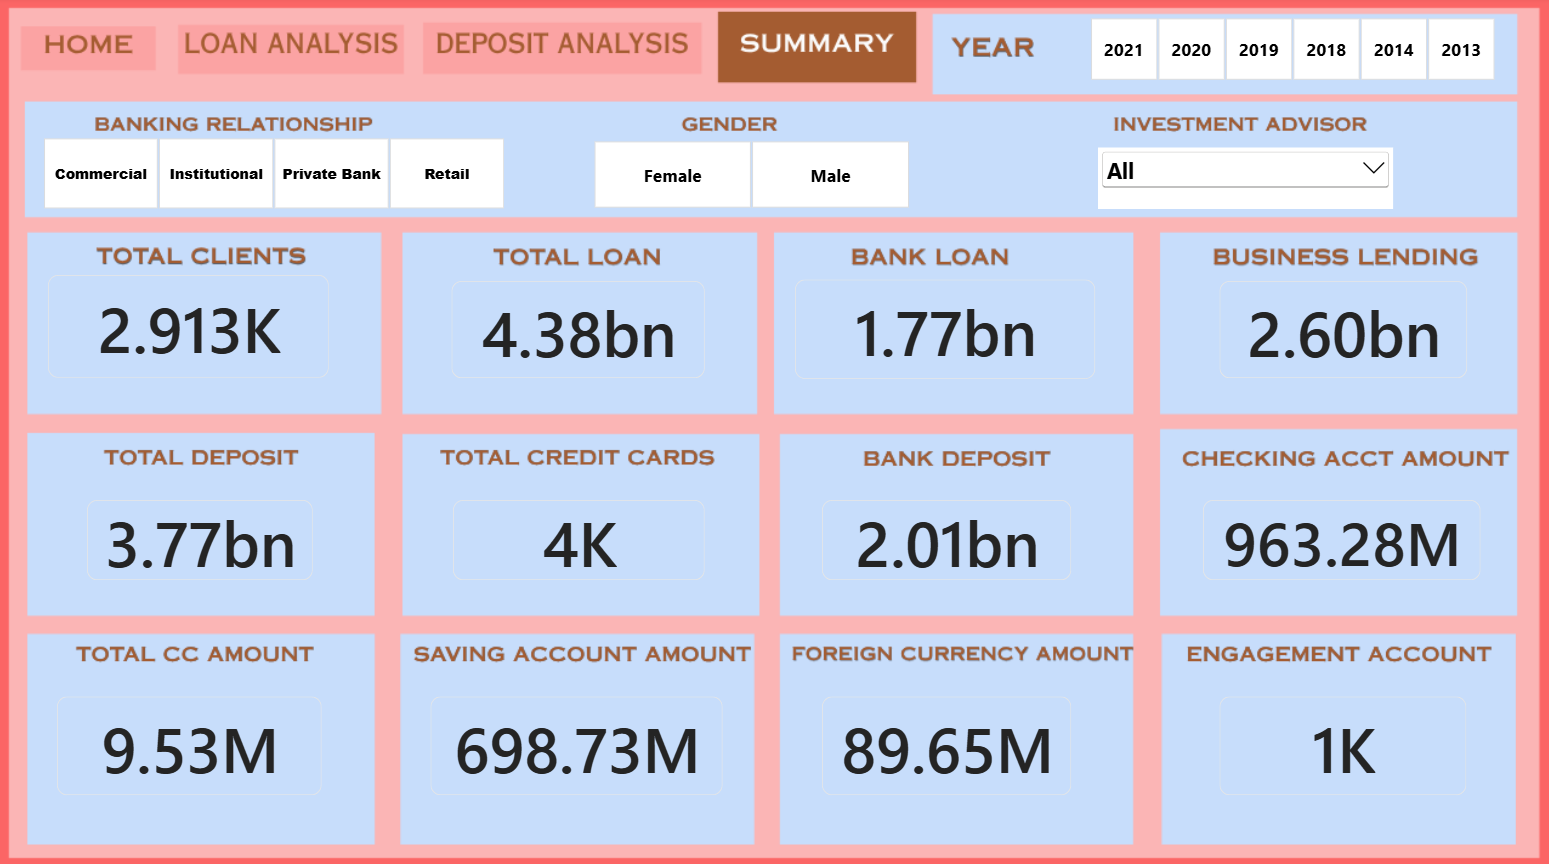

The dashboard page shown, as its layout file describes it:
{"tool":"powerbi","page":{"name":"SUMMARY","canvas":[1920,1080],"ordinal":3},"visuals":[{"type":"actionButton","box":[20.4,36.3,179.4,59.1],"z":0},{"type":"actionButton","box":[220.3,36.3,279.4,59.1],"z":1000},{"type":"actionButton","box":[529.2,36.3,345.2,59.1],"z":2000},{"type":"cardVisual","fields":{"Data":["Count(banking customer.Name)"]},"box":[63.6,345.2,347.5,127.2],"z":3000},{"type":"cardVisual","fields":{"Data":["banking customer.Total Loan"]},"box":[561,352.1,313.4,120.4],"z":4000},{"type":"cardVisual","fields":{"Data":["Sum(banking customer.Bank Loans)"]},"box":[985.3,350.5,371.8,123.2],"z":5000},{"type":"cardVisual","fields":{"Data":["Sum(banking customer.Business Lending)"]},"box":[1510.4,352.1,306.6,120.4],"z":6000},{"type":"cardVisual","fields":{"Data":["banking customer.Total deposits"]},"box":[111.3,622.3,279.4,99.9],"z":7000},{"type":"cardVisual","fields":{"Data":["Sum(banking customer.Credit Card Balance)"]},"box":[75,865.4,327.1,122.7],"z":8000},{"type":"cardVisual","fields":{"Data":["Sum(banking customer.Bank Deposits)"]},"box":[1019.8,622.3,308.9,99.9],"z":9000},{"type":"cardVisual","fields":{"Data":["Sum(banking customer.Checking Accounts)"]},"box":[1489.8,622.9,343.4,99.5],"z":10000},{"type":"cardVisual","fields":{"Data":["Sum(banking customer.Saving Accounts)"]},"box":[536,865.4,361.1,122.7],"z":11000},{"type":"cardVisual","fields":{"Data":["Sum(banking customer.Foreign Currency Account)"]},"box":[1019.8,865.4,308.9,122.7],"z":12000},{"type":"slicer","fields":{"Values":["banking customer.GenderId"]},"box":[717,177.5,428.3,85.2],"z":13000},{"type":"slicer","fields":{"Values":["banking customer.BRId"]},"box":[37.9,175.1,608.2,89.9],"z":14000},{"type":"cardVisual","fields":{"Data":["banking customer.TOTAL CREDITCARDS"]},"box":[562.6,622.6,311.3,100],"z":15000},{"type":"cardVisual","fields":{"Data":["banking customer.Engaged Accounts"]},"box":[1510.7,865.3,305.6,122.8],"z":16000},{"type":"slicer","fields":{"Values":["banking customer.IAId"]},"box":[1360.7,187,364.4,75.7],"z":17000},{"type":"slicer","fields":{"Values":["banking customer.Year of Joining"]},"box":[1330,26,538.3,79.5],"z":18000}]}

Visuals, with their boxes in screenshot pixels (x1, y1, x2, y2), scaled from the page's 1920x1080 canvas onto the 1549x864 screenshot:
actionButton: <box>16,29,161,76</box>
actionButton: <box>178,29,403,76</box>
actionButton: <box>427,29,705,76</box>
cardVisual - Count(banking customer.Name): <box>51,276,332,378</box>
cardVisual - banking customer.Total Loan: <box>453,282,705,378</box>
cardVisual - Sum(banking customer.Bank Loans): <box>795,280,1095,379</box>
cardVisual - Sum(banking customer.Business Lending): <box>1219,282,1466,378</box>
cardVisual - banking customer.Total deposits: <box>90,498,315,578</box>
cardVisual - Sum(banking customer.Credit Card Balance): <box>61,692,324,790</box>
cardVisual - Sum(banking customer.Bank Deposits): <box>823,498,1072,578</box>
cardVisual - Sum(banking customer.Checking Accounts): <box>1202,498,1479,578</box>
cardVisual - Sum(banking customer.Saving Accounts): <box>432,692,724,790</box>
cardVisual - Sum(banking customer.Foreign Currency Account): <box>823,692,1072,790</box>
slicer - banking customer.GenderId: <box>578,142,924,210</box>
slicer - banking customer.BRId: <box>31,140,521,212</box>
cardVisual - banking customer.TOTAL CREDITCARDS: <box>454,498,705,578</box>
cardVisual - banking customer.Engaged Accounts: <box>1219,692,1465,790</box>
slicer - banking customer.IAId: <box>1098,150,1392,210</box>
slicer - banking customer.Year of Joining: <box>1073,21,1507,84</box>
